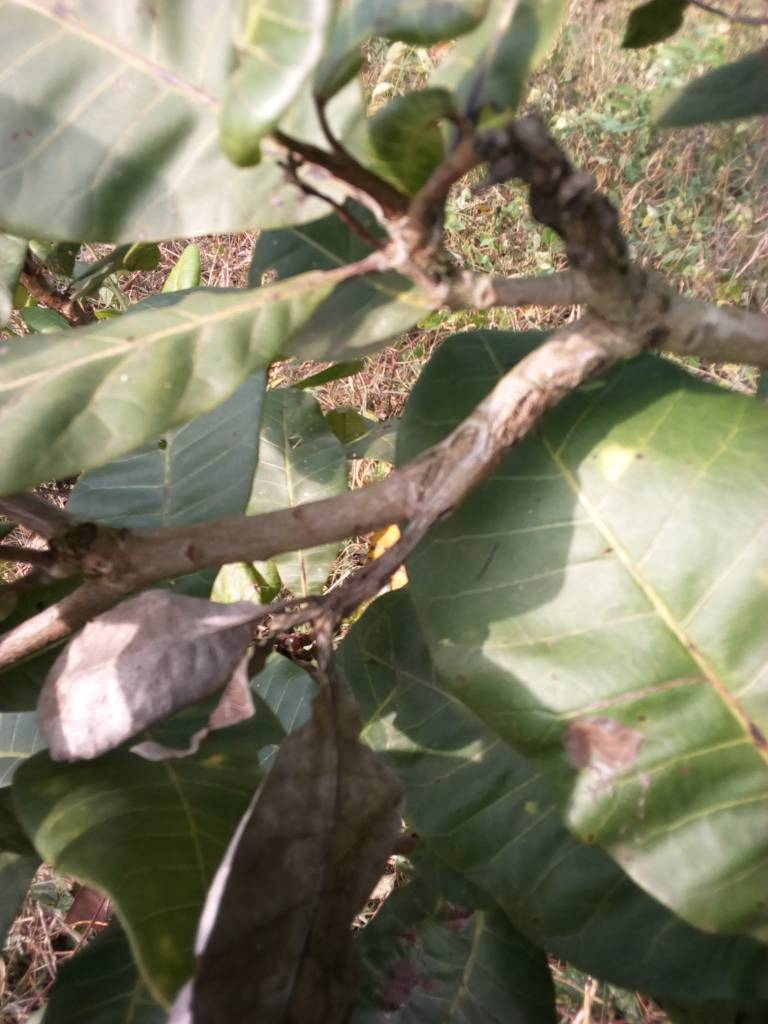Dessèchement des bourgeons: (279, 110, 414, 244)
